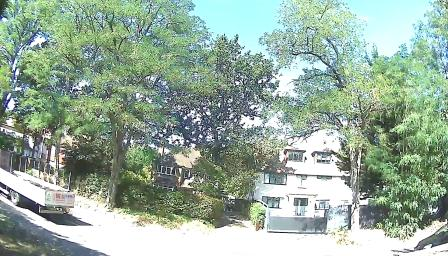Cars: (2, 148, 79, 219)
